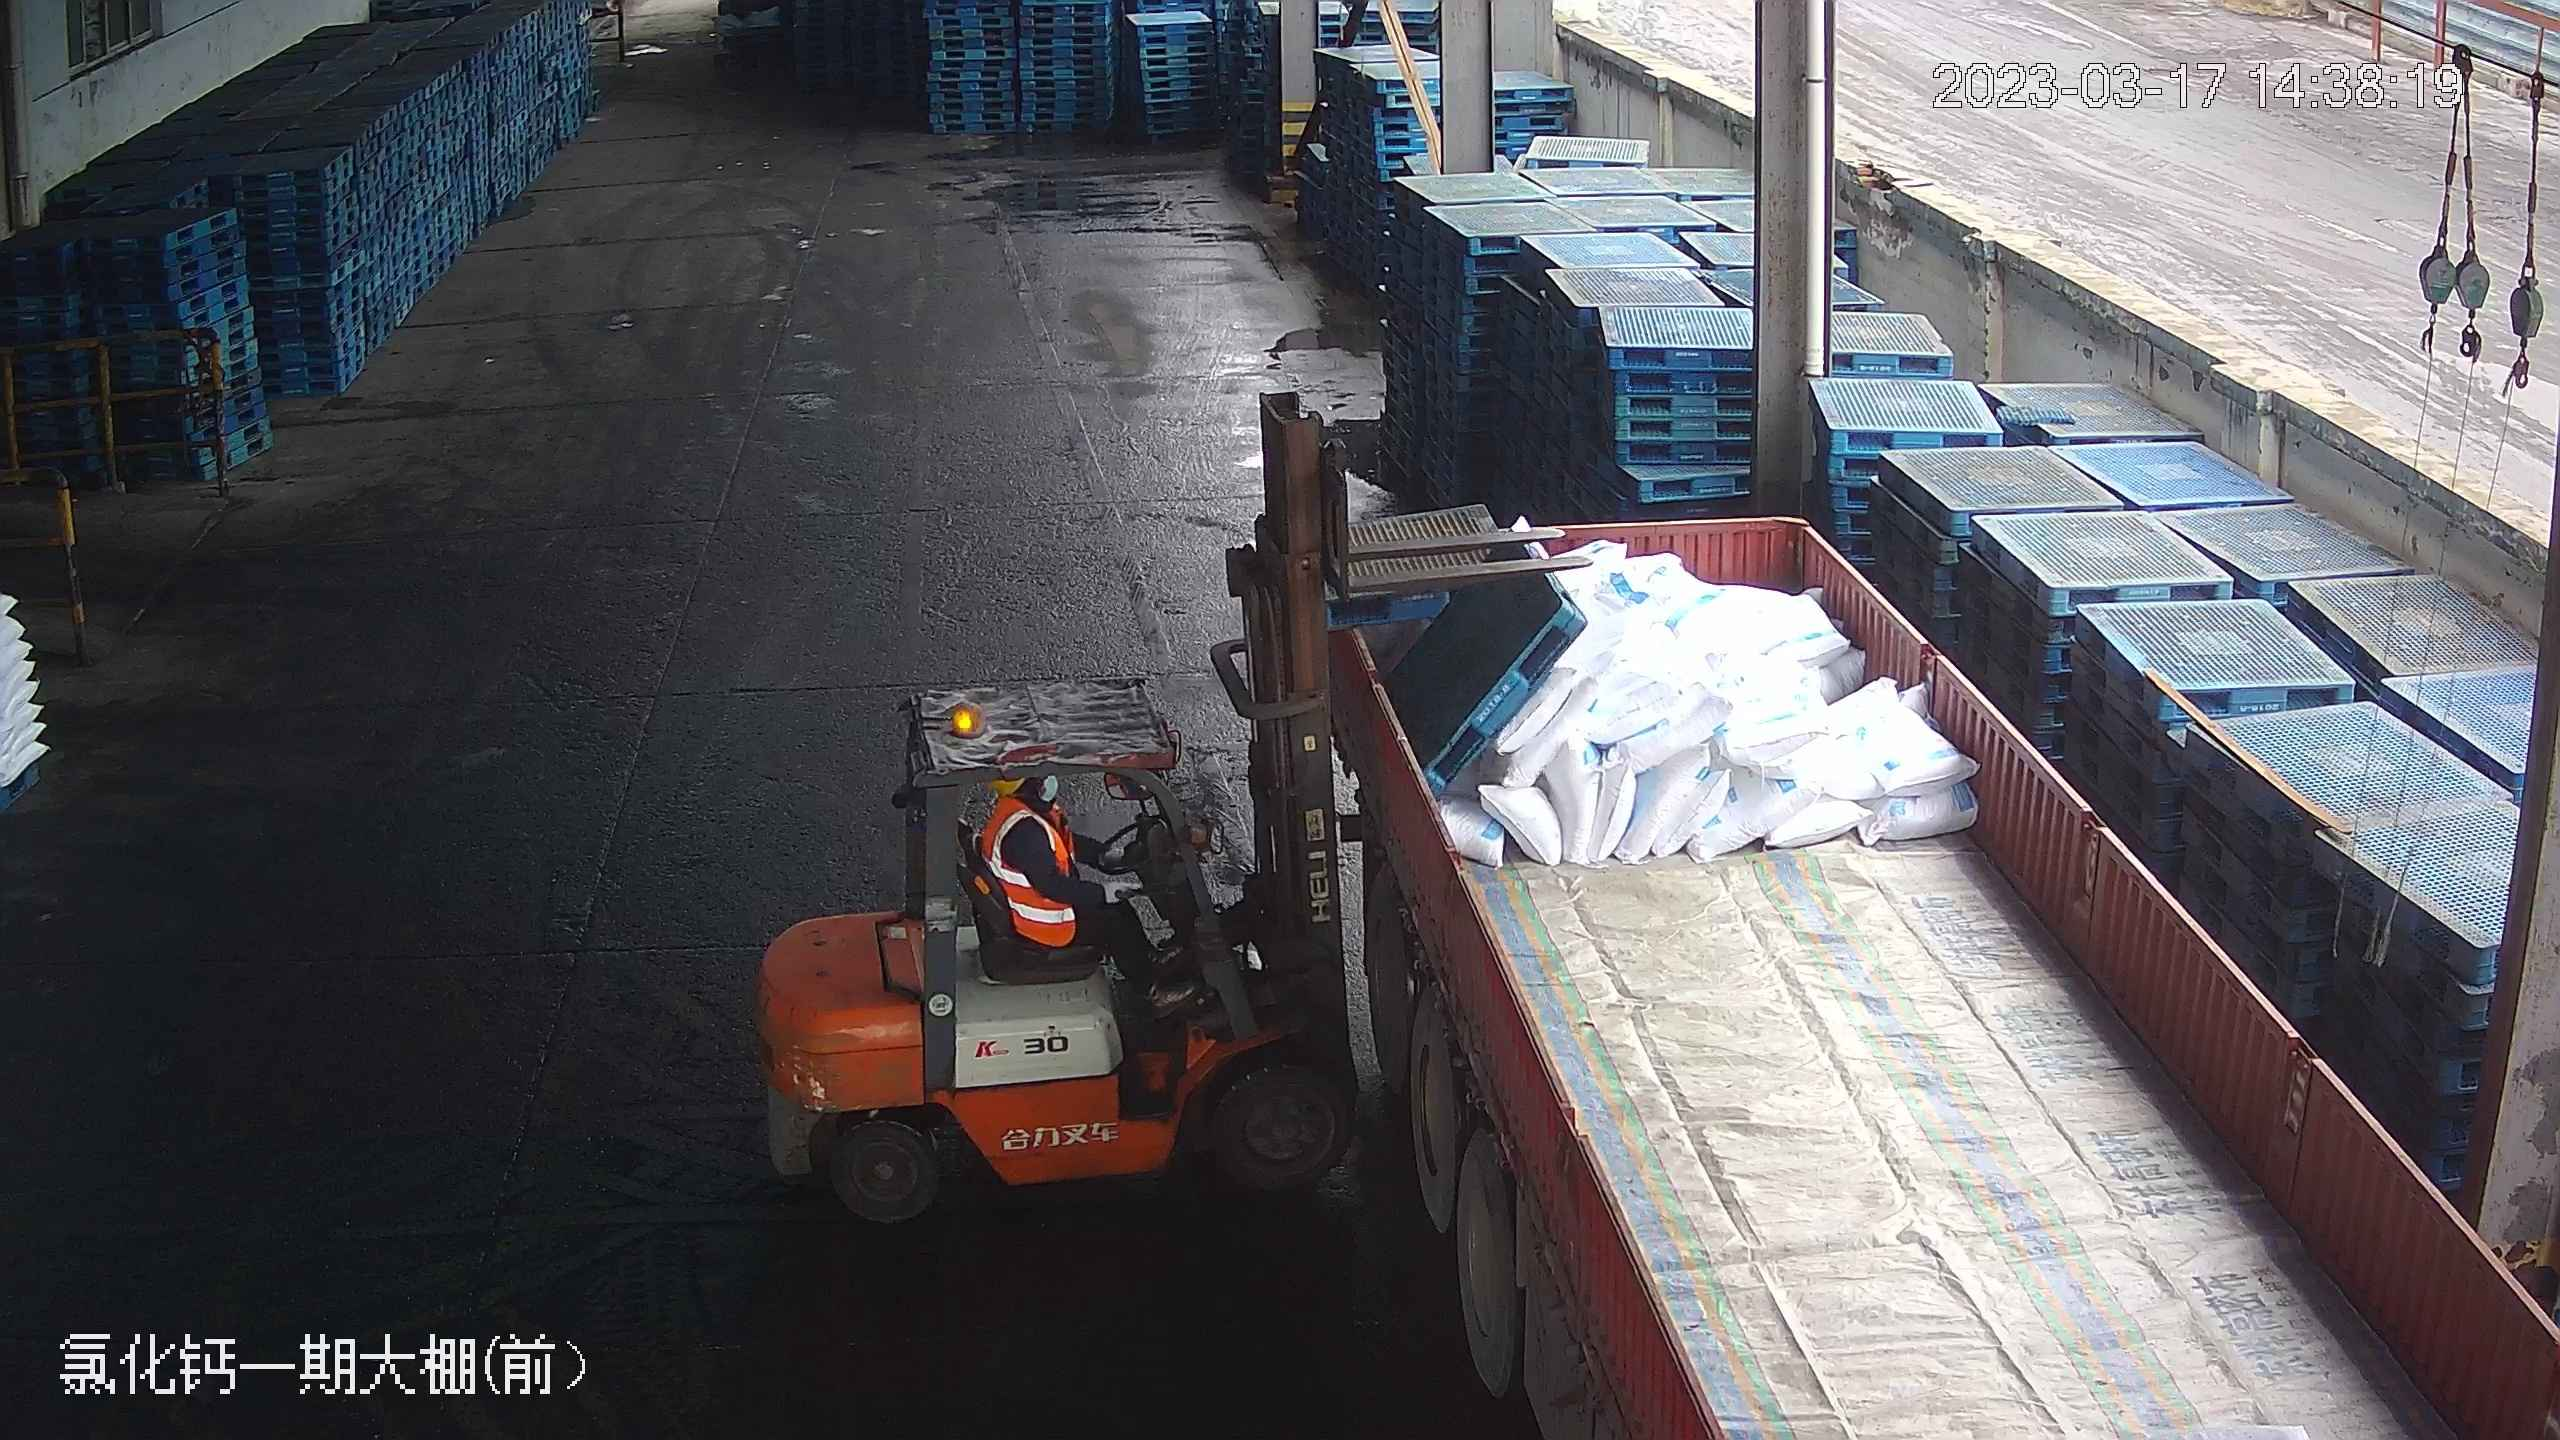head: (976, 769, 1078, 864)
people: (972, 766, 1202, 1023)
truck: (1293, 517, 2540, 1439)
